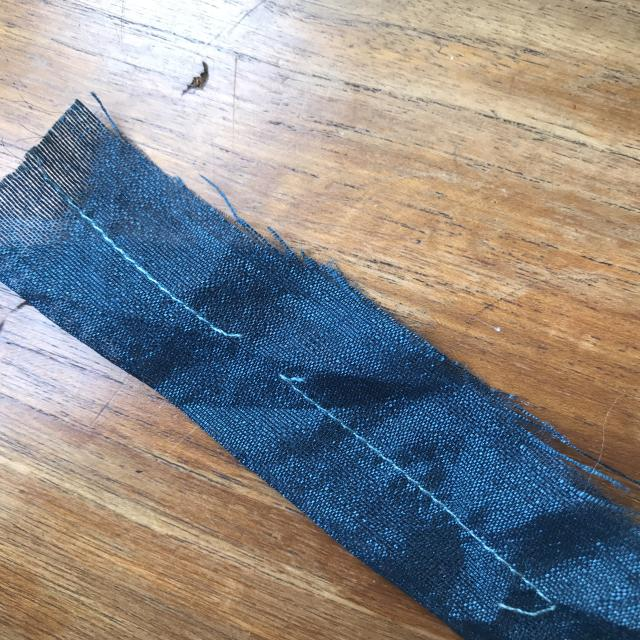broken: (179, 326, 338, 398)
